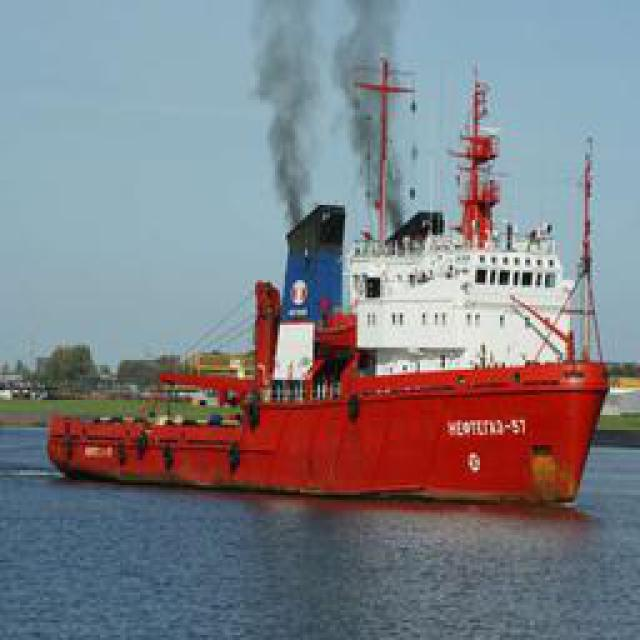Ship: (57, 15, 620, 508)
